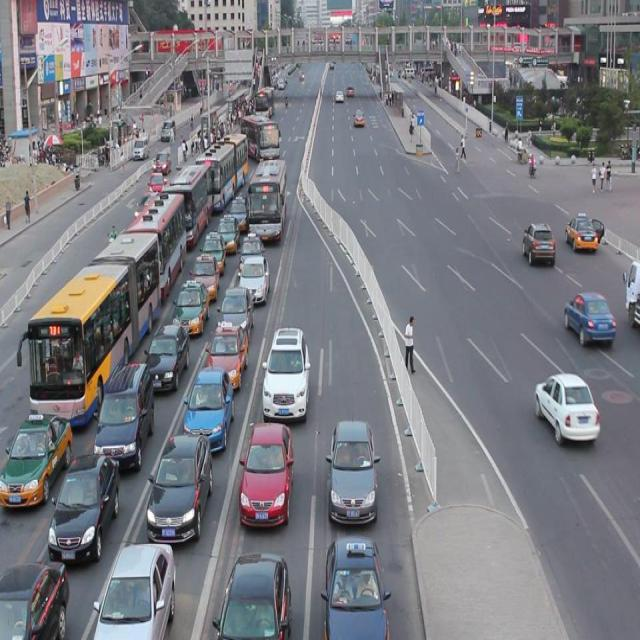bus: (619, 253, 640, 330)
car: (94, 538, 175, 640), (48, 452, 120, 554), (321, 535, 389, 640), (148, 428, 213, 536), (214, 551, 290, 640), (0, 411, 70, 503), (94, 358, 154, 461), (0, 554, 68, 640), (327, 417, 380, 517), (240, 422, 294, 517), (533, 370, 598, 444), (262, 325, 310, 415), (185, 364, 233, 442), (146, 317, 189, 386), (563, 290, 615, 345), (205, 320, 248, 384), (218, 284, 254, 339), (174, 278, 210, 330), (564, 212, 604, 253), (522, 223, 554, 265), (241, 252, 270, 298), (190, 250, 220, 294), (200, 229, 226, 269), (240, 228, 263, 270), (216, 210, 239, 246), (227, 191, 250, 226), (154, 150, 171, 176), (148, 172, 166, 195)
van: (16, 230, 160, 421), (123, 187, 186, 296), (197, 125, 247, 203), (246, 158, 287, 240), (168, 158, 208, 241), (240, 114, 280, 162)
